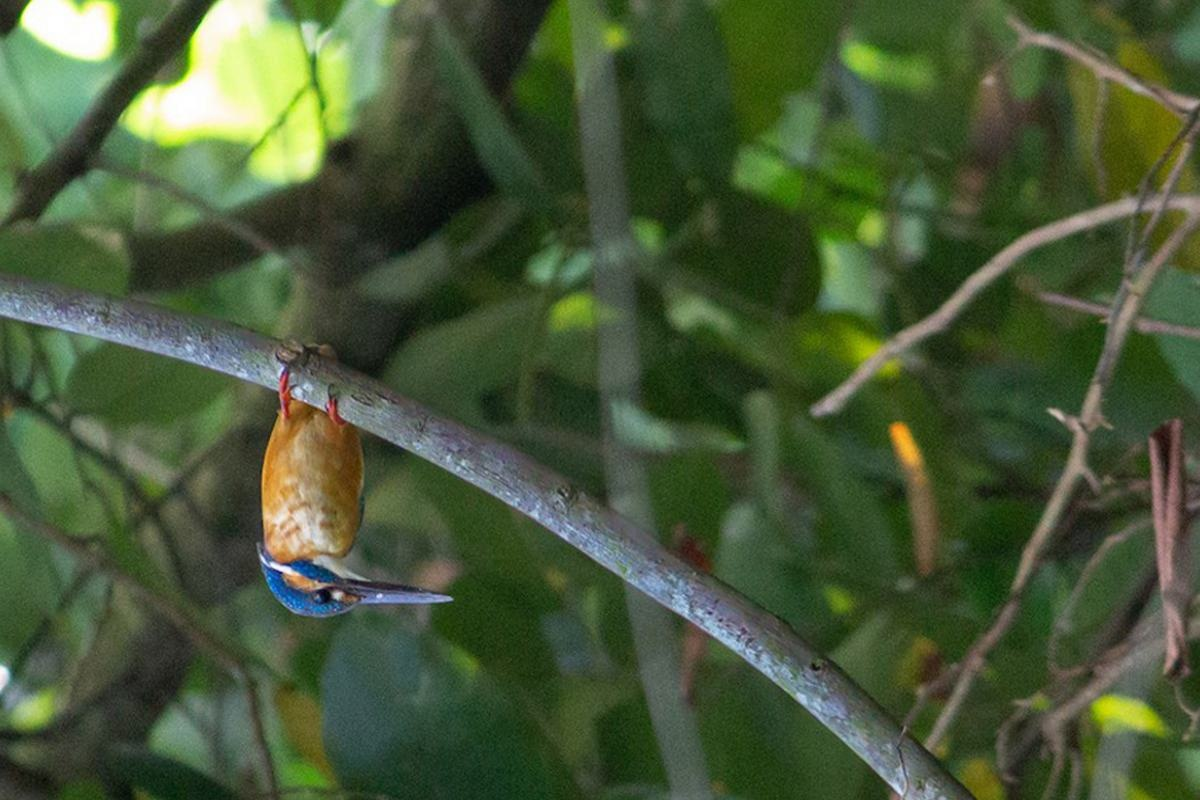kingfisher: (240, 364, 464, 630)
